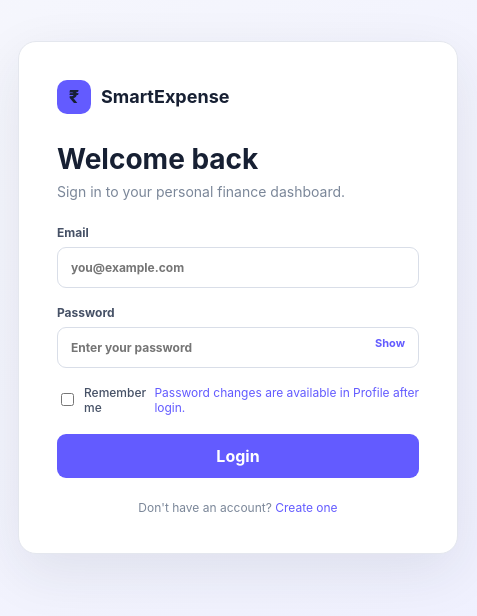
it: authentication screens › shows the API error when login fails
The image size is (477, 616).
Type "test@example.com" into the field labelled "Email".
click(238, 267); type("test@example.com")  # box [57, 246, 419, 288]
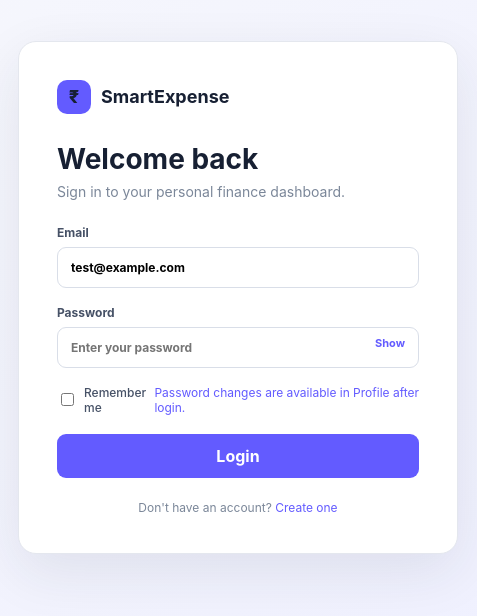
Type "incorrect password" into the password field labelled "Password".
click(238, 347); type("incorrect password")  # box [57, 326, 419, 368]
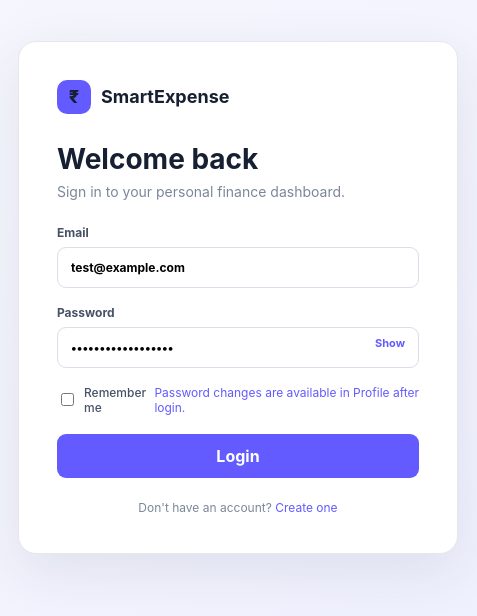
Click the button "Login".
click(238, 456)  # box [57, 434, 419, 478]
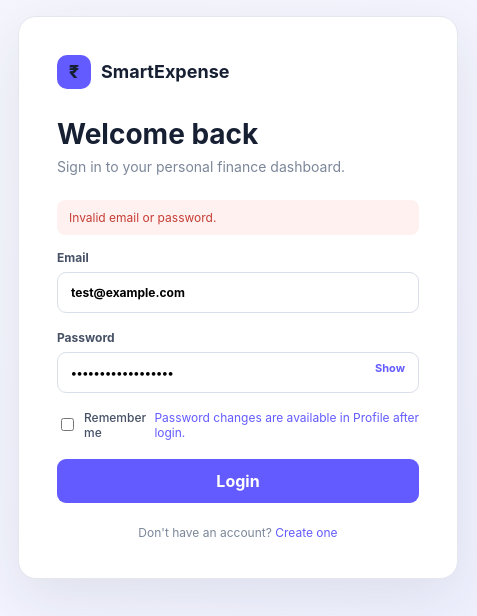
Result: the message reads "Invalid email or password." at [69, 210, 216, 224]
